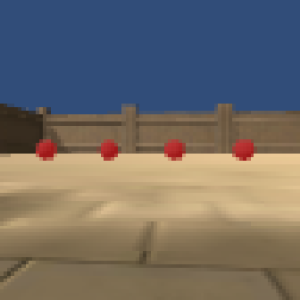badGoal: (33, 136, 60, 164), (230, 136, 256, 164), (162, 137, 186, 164), (98, 138, 120, 160)
